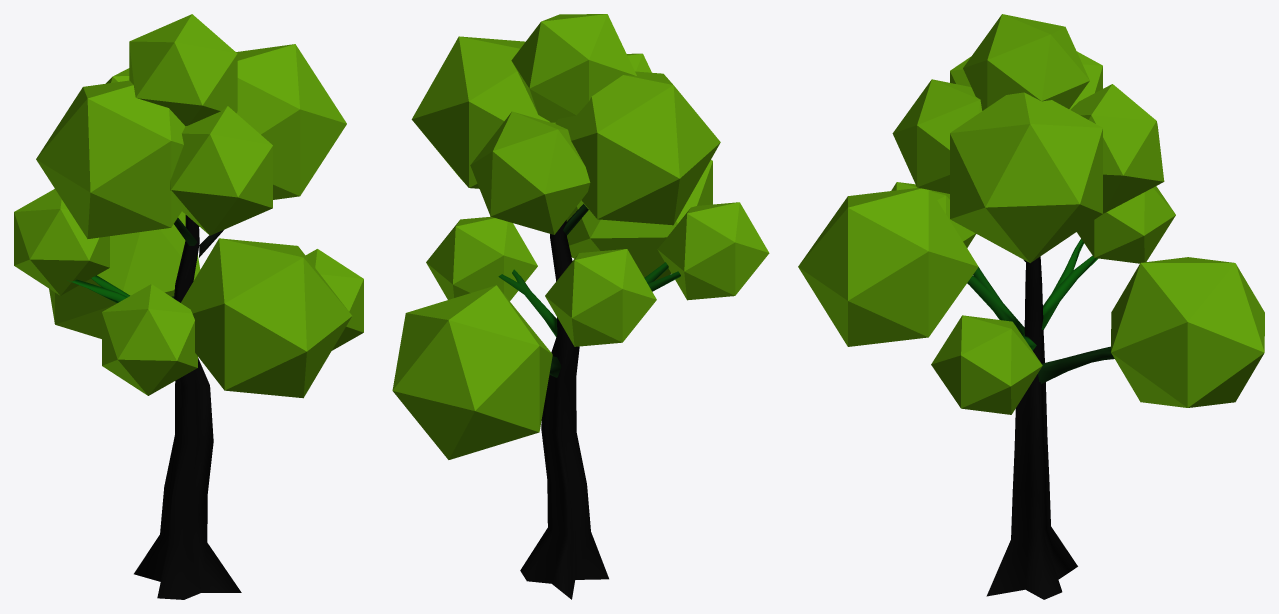
Rendered from TreeFiveLeaves.fbx.
The picture shows the model from 3 angles, left to right: view 1: azimuth 30°, elevation 25°; view 2: azimuth 150°, elevation 25°; view 3: azimuth 270°, elevation 25°; orthographic projection.
Visible parts, largest first — view 1: pPlatonic1, pPlatonic5, Tree_0, pPlatonic2, pPlatonic7, pPlatonic6, pPlatonic10, pPlatonic3, pPlatonic4, pPlatonic9; view 2: pPlatonic3, pPlatonic5, Tree_0, pPlatonic2, pPlatonic8, pPlatonic6, pPlatonic4, pPlatonic10, pPlatonic9, pPlatonic1; view 3: pPlatonic2, pPlatonic1, pPlatonic3, Tree_0, pPlatonic6, pPlatonic9, pPlatonic8, pPlatonic7, pPlatonic4, pPlatonic5, pPlatonic10.
Boxes of the visible parts, box(x1,y1,x2,y2) form: pPlatonic1: box(181, 238, 351, 398); pPlatonic5: box(36, 80, 185, 238); Tree_0: box(67, 215, 241, 599); pPlatonic2: box(236, 44, 346, 199); pPlatonic7: box(170, 106, 272, 235); pPlatonic6: box(129, 14, 237, 125); pPlatonic10: box(102, 284, 197, 395); pPlatonic3: box(49, 211, 200, 338); pPlatonic4: box(14, 189, 109, 295); pPlatonic9: box(305, 249, 363, 350); pPlatonic3: box(392, 285, 552, 459); pPlatonic5: box(555, 71, 720, 225); Tree_0: box(498, 204, 680, 599); pPlatonic2: box(411, 36, 555, 188); pPlatonic8: box(470, 111, 590, 234); pPlatonic6: box(511, 14, 636, 122); pPlatonic4: box(545, 249, 656, 346); pPlatonic10: box(657, 202, 769, 300); pPlatonic9: box(426, 216, 537, 300); pPlatonic1: box(566, 160, 712, 280); pPlatonic2: box(950, 92, 1102, 262); pPlatonic1: box(798, 187, 978, 346); pPlatonic3: box(1111, 257, 1264, 407); Tree_0: box(967, 239, 1114, 599); pPlatonic6: box(963, 14, 1089, 110); pPlatonic9: box(931, 315, 1042, 414); pPlatonic8: box(1070, 84, 1164, 213); pPlatonic7: box(892, 79, 982, 193); pPlatonic4: box(1077, 186, 1175, 263); pPlatonic5: box(950, 51, 1102, 109); pPlatonic10: box(891, 182, 975, 247).
Bounding box in the file's own units: 69.01 × 128 × 98.02.
